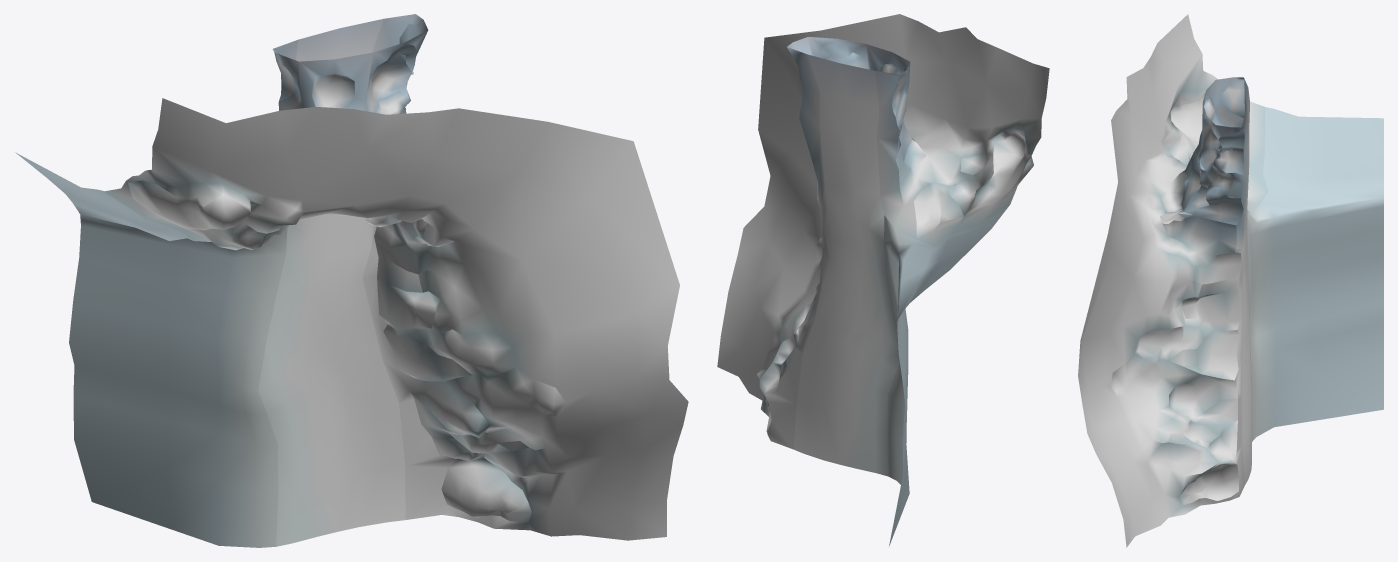
Rendered from Transition_IceCaveA_lod.glb.
3 renders of one model, left to right at view 1: azimuth 30°, elevation 25°; view 2: azimuth 150°, elevation 25°; view 3: azimuth 270°, elevation 25°, orthographic. The views are drawn at different scales.
Parts seen in each view (by area): view 1: MeshNode_0, MeshNode_1; view 2: MeshNode_0, MeshNode_1; view 3: MeshNode_0, MeshNode_1.
Boxes of the visible parts, left/top/right/bottom form: MeshNode_0: left=15, top=14, right=688, bottom=547; MeshNode_1: left=258, top=19, right=405, bottom=546; MeshNode_0: left=717, top=14, right=1049, bottom=546; MeshNode_1: left=793, top=54, right=899, bottom=476; MeshNode_0: left=1078, top=14, right=1383, bottom=547; MeshNode_1: left=1241, top=89, right=1251, bottom=484.
Size of the model in its own units: 126 by 132 by 98.24.
